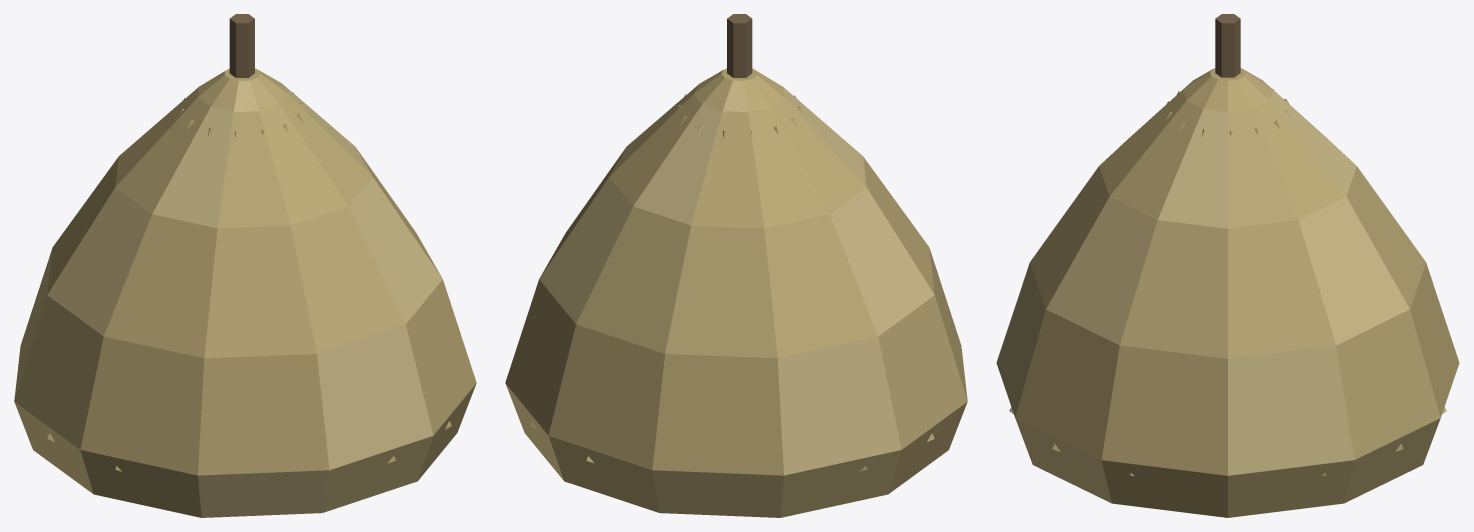
Rendered from haystack.glb.
3 views of the same model, side by side, from view 1: azimuth 30°, elevation 25°; view 2: azimuth 150°, elevation 25°; view 3: azimuth 270°, elevation 25° (orthographic).
Parts seen in each view (by area): view 1: haystack_camp_hay, haystack_oak_dark; view 2: haystack_camp_hay, haystack_oak_dark; view 3: haystack_camp_hay, haystack_oak_dark.
Part boxes in pixels (left/top/right/bottom): haystack_camp_hay: left=14, top=68, right=476, bottom=517; haystack_oak_dark: left=229, top=14, right=254, bottom=77; haystack_camp_hay: left=505, top=68, right=967, bottom=517; haystack_oak_dark: left=727, top=14, right=752, bottom=77; haystack_camp_hay: left=996, top=68, right=1459, bottom=517; haystack_oak_dark: left=1215, top=14, right=1240, bottom=77.
Bounding box in the file's own units: 1.9 × 1.87 × 1.92.
